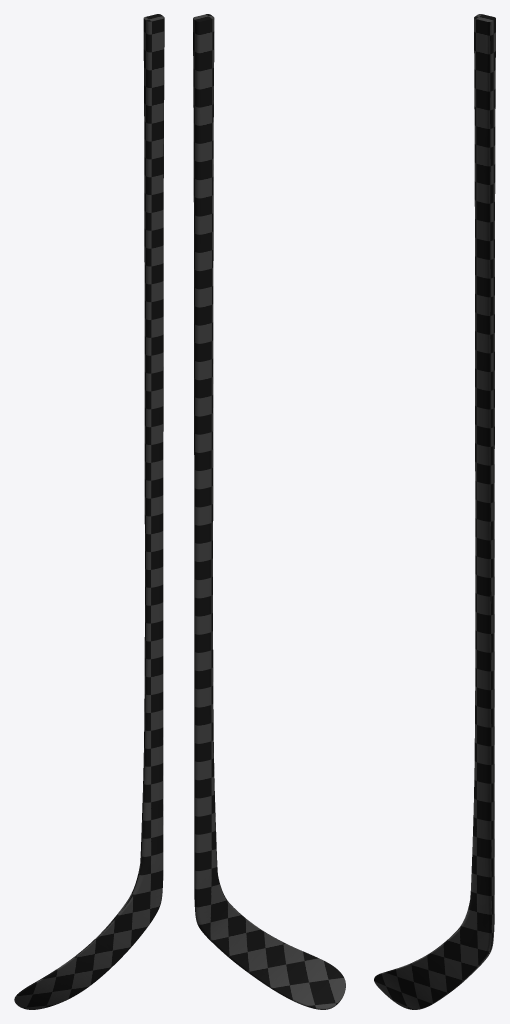
File: P37-SBO.glb
The picture shows the model from 3 angles, left to right: view 1: azimuth 30°, elevation 25°; view 2: azimuth 210°, elevation 25°; view 3: azimuth 330°, elevation 25°; orthographic projection. The views are drawn at different scales.
Visible parts, largest first — view 1: geometry_0; view 2: geometry_0; view 3: geometry_0.
Boxes of the visible parts, box(x1,y1,x2,y2) form: geometry_0: box(14, 14, 164, 1009); geometry_0: box(193, 14, 345, 1009); geometry_0: box(374, 14, 495, 1009).
Size of the model in its own units: 229 by 1650 by 77.45.
1 material, 1 textured.
